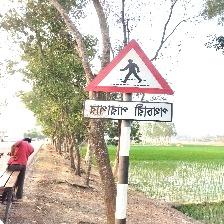Pedestrian-crossing: (84, 40, 176, 125)
